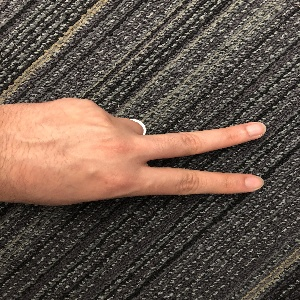hand: (1, 98, 265, 203)
